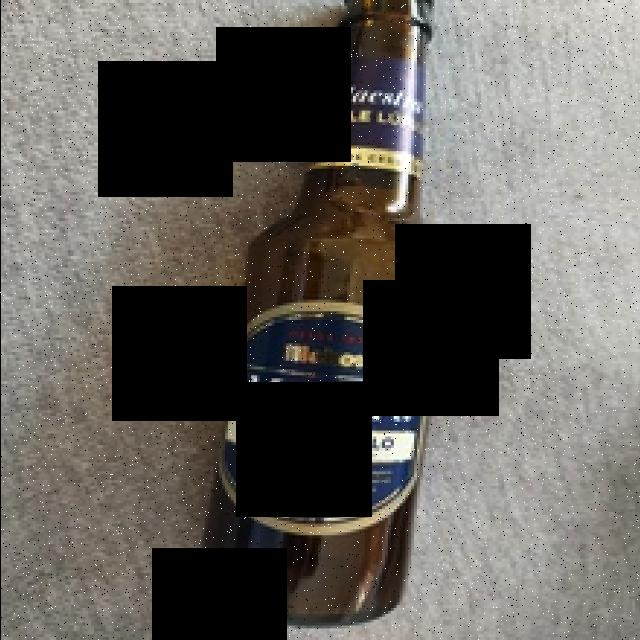glass-bottle: (188, 1, 470, 635)
